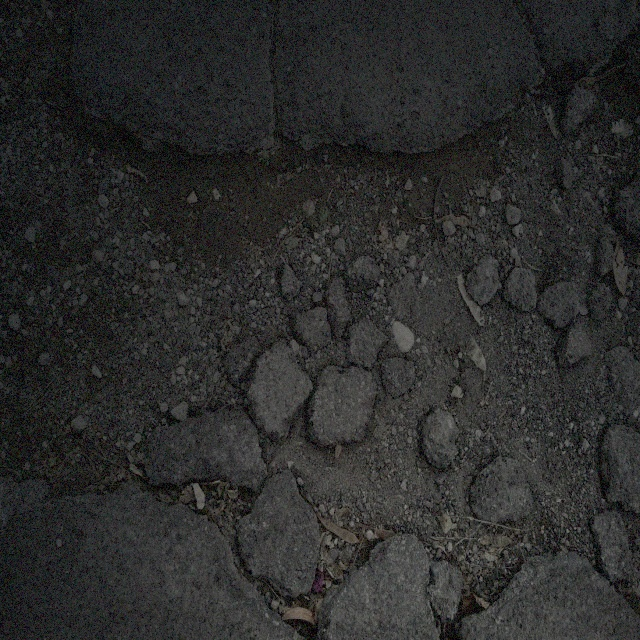pothole: (78, 60, 590, 605)
